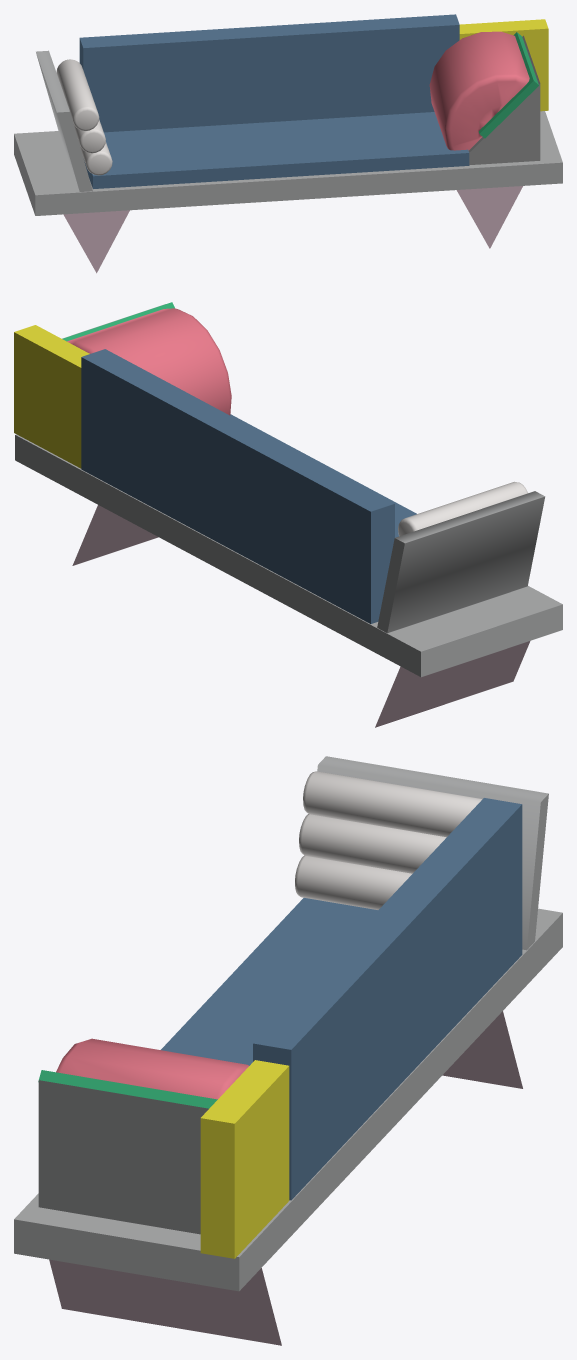
The model's file is BigSur.glb.
3 views of the same model, one above another, from view 1: azimuth 30°, elevation 25°; view 2: azimuth 150°, elevation 25°; view 3: azimuth 270°, elevation 25° (orthographic). The views are drawn at different scales.
Visible parts, largest first — view 1: back, seat, bench, red_cushion, Cube_3, arm, Cube_2, leg_2, leg_1, Cylinder_6, green_stripe, Cylinder_4 (+1 smaller); view 2: back, bench, arm, red_cushion, Cube_2, leg_2, leg_1, Cylinder_6, seat, green_stripe; view 3: back, bench, Cube_3, Cube_2, seat, leg_1, Cylinder_6, red_cushion, arm, Cylinder_5, Cylinder_4, leg_2 (+1 smaller).
Boxes of the visible parts, <box> form: back: <box>79,14,459,132</box>; seat: <box>84,112,469,188</box>; bench: <box>14,111,562,215</box>; red_cushion: <box>429,31,529,150</box>; Cube_3: <box>469,35,540,165</box>; arm: <box>36,50,92,191</box>; Cube_2: <box>459,19,548,111</box>; leg_2: <box>63,210,129,273</box>; leg_1: <box>456,186,522,248</box>; Cylinder_6: <box>56,59,99,130</box>; green_stripe: <box>478,32,539,138</box>; Cylinder_4: <box>78,140,112,175</box>; back: <box>81,349,394,623</box>; bench: <box>15,434,562,677</box>; arm: <box>377,491,545,633</box>; red_cushion: <box>67,308,231,415</box>; Cube_2: <box>14,325,89,468</box>; leg_2: <box>375,641,530,727</box>; leg_1: <box>72,505,158,565</box>; Cylinder_6: <box>398,481,527,536</box>; seat: <box>230,414,416,537</box>; green_stripe: <box>62,302,174,341</box>; back: <box>253,798,522,1200</box>; bench: <box>14,908,562,1291</box>; Cube_3: <box>38,1080,208,1234</box>; Cube_2: <box>200,1060,289,1258</box>; seat: <box>161,898,377,1065</box>; leg_1: <box>49,1259,281,1345</box>; Cylinder_6: <box>303,771,482,837</box>; red_cushion: <box>56,1038,248,1099</box>; arm: <box>317,756,548,950</box>; Cylinder_5: <box>299,814,446,873</box>; Cylinder_4: <box>295,855,412,909</box>; leg_2: <box>442,1011,522,1088</box>.
Bounding box in the file's own units: 2.49 × 0.8706 × 1.51.
